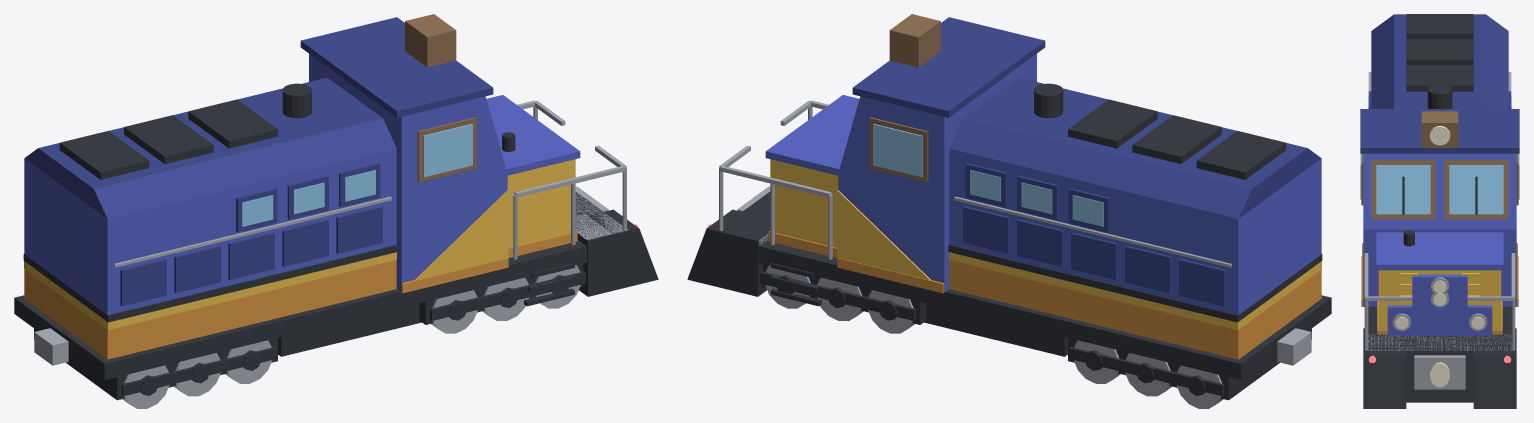
Rendered from Locomotive.fbx.
3 views of the same model, side by side, from view 1: azimuth 30°, elevation 25°; view 2: azimuth 150°, elevation 25°; view 3: azimuth 270°, elevation 25° (orthographic). The views are drawn at different scales.
Visible parts, largest first — view 1: Locomotive; view 2: Locomotive; view 3: Locomotive.
Boxes of the visible parts, left/top/right/bottom form: Locomotive: left=14, top=14, right=658, bottom=408; Locomotive: left=687, top=14, right=1331, bottom=408; Locomotive: left=1360, top=14, right=1519, bottom=408.
Bounding box in the file's own units: 5.27 × 2.41 × 1.55.
